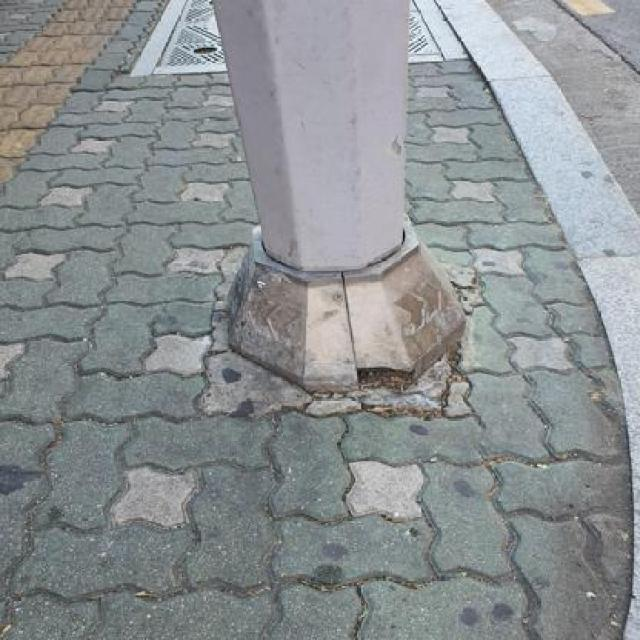pole: (198, 12, 484, 430)
